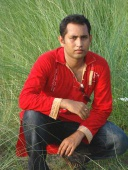male: (55, 14, 96, 63)
